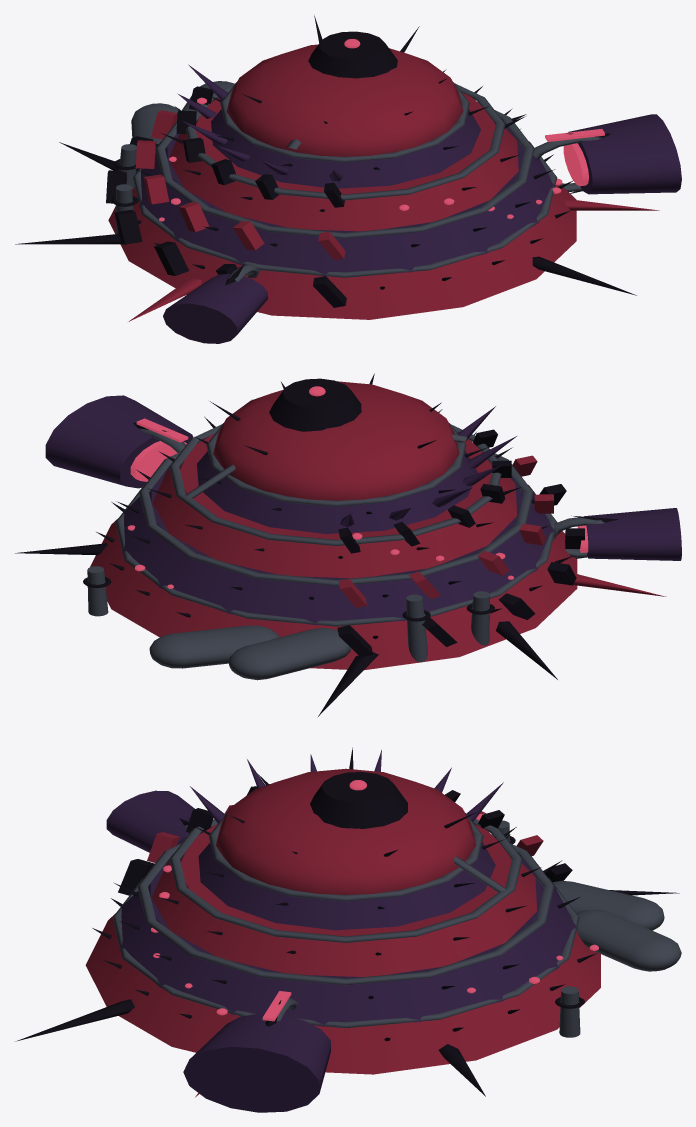
File: bastion-directorate.glb
3 renders of one model, top to bottom at view 1: azimuth 30°, elevation 25°; view 2: azimuth 150°, elevation 25°; view 3: azimuth 270°, elevation 25°, orthographic. The views are drawn at different scales.
Parts seen in each view (by area): view 1: carapace_crown, carapace_tier_0, carapace_tier_1, carapace_tier_2, carapace_tier_3, dock_main_throat, dock_small_throat, seam_ring_1, apex_boss, seam_ring_0, seam_ring_2, seam_ring_3 (+16 smaller); view 2: carapace_crown, carapace_tier_1, carapace_tier_2, carapace_tier_0, carapace_tier_3, dock_main_throat, dock_small_throat, seam_ring_1, ballast_tank_0, apex_boss, ballast_tank_1, seam_ring_2 (+13 smaller); view 3: carapace_crown, carapace_tier_0, carapace_tier_1, carapace_tier_2, dock_main_throat, carapace_tier_3, seam_ring_1, apex_boss, seam_ring_2, ballast_tank_1, dock_small_throat, seam_ring_0 (+6 smaller).
Boxes of the visible parts, x1,y1,x2,y2 form: carapace_crown: (226, 44, 463, 156); carapace_tier_0: (108, 184, 576, 319); carapace_tier_1: (139, 122, 555, 276); carapace_tier_2: (168, 92, 518, 231); carapace_tier_3: (211, 109, 480, 188); dock_main_throat: (568, 114, 681, 194); dock_small_throat: (163, 273, 267, 343); seam_ring_1: (155, 102, 534, 238); apex_boss: (308, 31, 397, 78); seam_ring_0: (132, 141, 557, 277); seam_ring_2: (185, 83, 505, 200); seam_ring_3: (220, 82, 469, 162); carapace_crown: (213, 381, 459, 500); carapace_tier_1: (122, 468, 555, 625); carapace_tier_2: (152, 433, 516, 578); carapace_tier_0: (90, 519, 577, 670); carapace_tier_3: (197, 450, 477, 533); dock_main_throat: (45, 395, 193, 488); dock_small_throat: (584, 508, 681, 560); seam_ring_1: (139, 452, 533, 585); ballast_tank_0: (229, 628, 351, 680); apex_boss: (269, 378, 361, 431); ballast_tank_1: (149, 625, 279, 668); seam_ring_2: (169, 424, 501, 545); carapace_crown: (216, 768, 476, 894); carapace_tier_0: (85, 913, 600, 1074); carapace_tier_1: (119, 857, 577, 1026); carapace_tier_2: (151, 824, 537, 976); dock_main_throat: (183, 1013, 330, 1112); carapace_tier_3: (198, 842, 495, 930); seam_ring_1: (137, 834, 554, 985); apex_boss: (310, 772, 407, 828); seam_ring_2: (169, 819, 522, 942); ballast_tank_1: (576, 909, 681, 971); dock_small_throat: (106, 790, 194, 852); seam_ring_0: (112, 878, 579, 1028).
Bounding box in the file's own units: 435 × 128 × 405.
